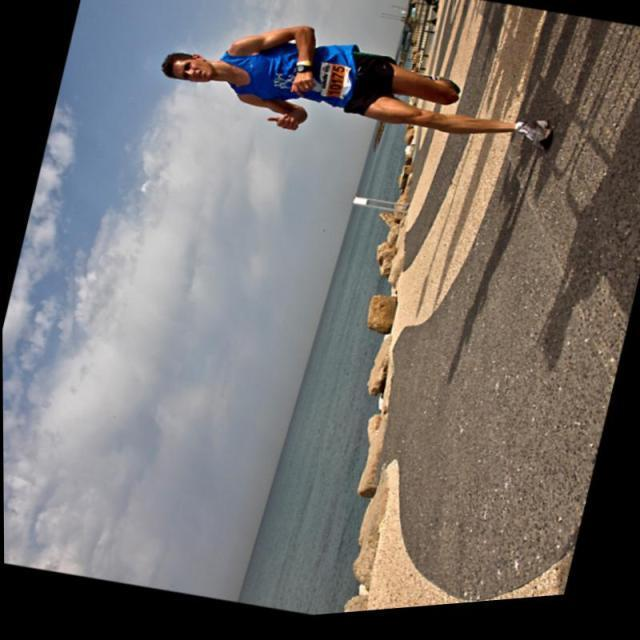dorsal: (311, 59, 360, 112)
